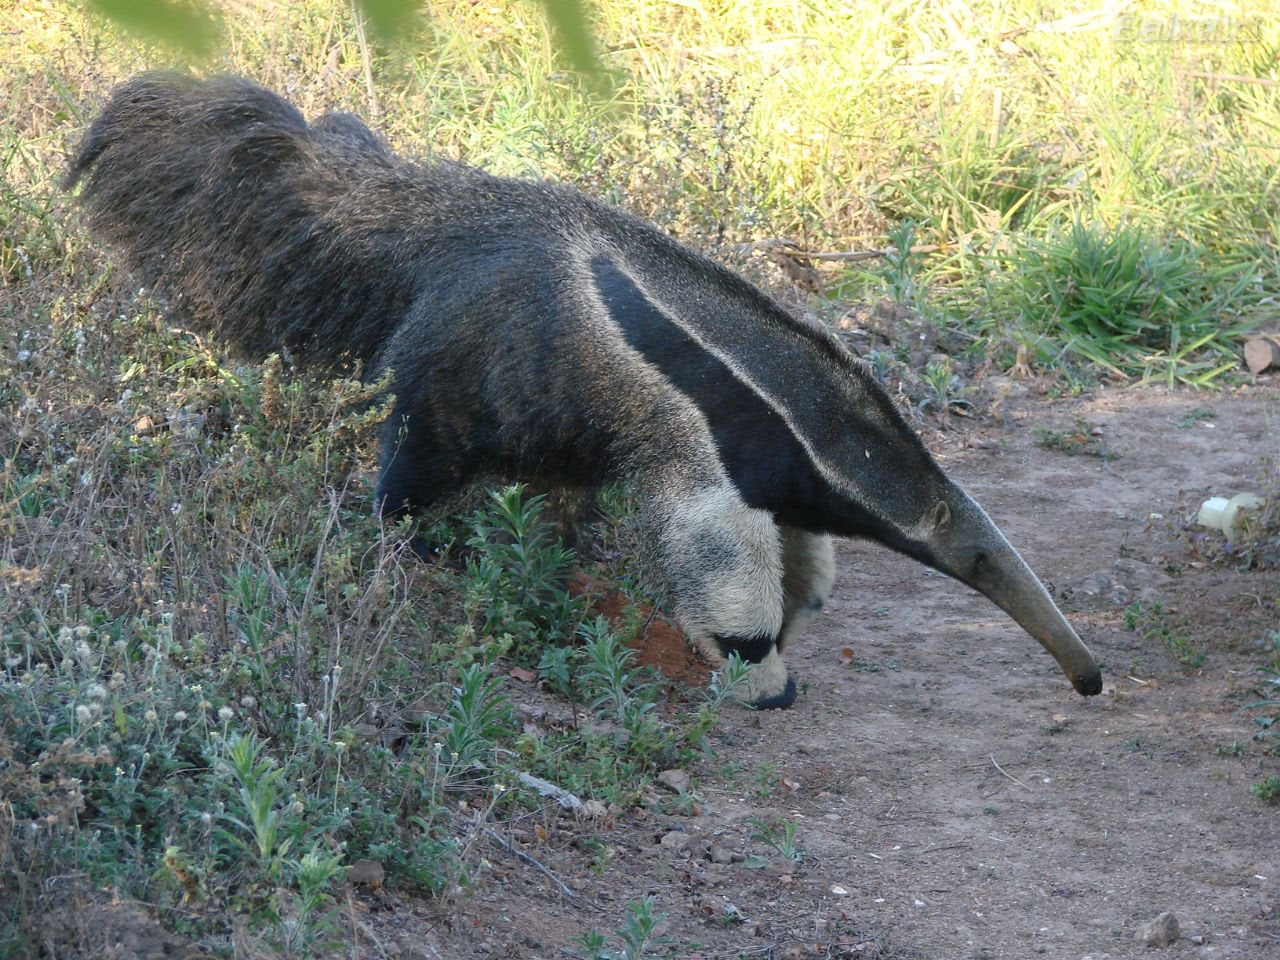TamanduaBandeira: (68, 58, 1108, 732)
